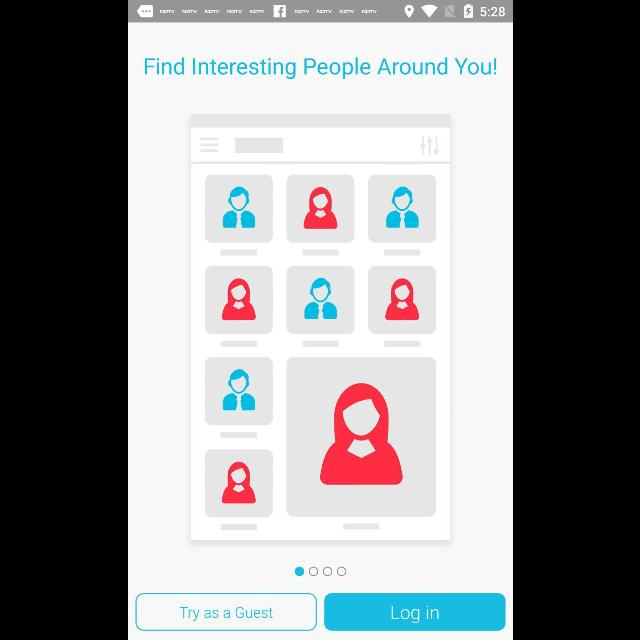image: (190, 114, 450, 540)
pageindicator: (294, 567, 346, 577)
text: (144, 58, 496, 80)
textbutton: (134, 593, 316, 631), (323, 593, 504, 631)
uppertaskbar: (128, 1, 512, 23)
